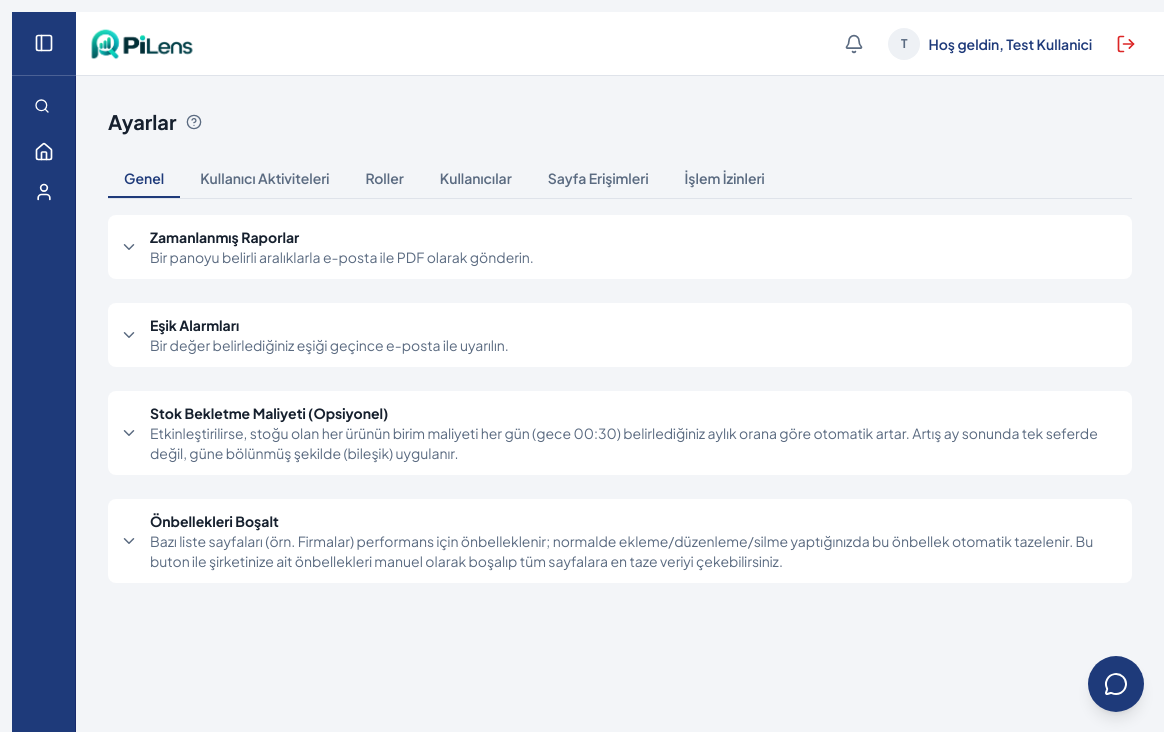
it: SettingsPage › detaylari genislet denince stok kaydinin meta bilgisini (urun adi) gosterir
Click the tab "Kullanıcı Aktiviteleri" at (265, 179), box [184,160,345,198]
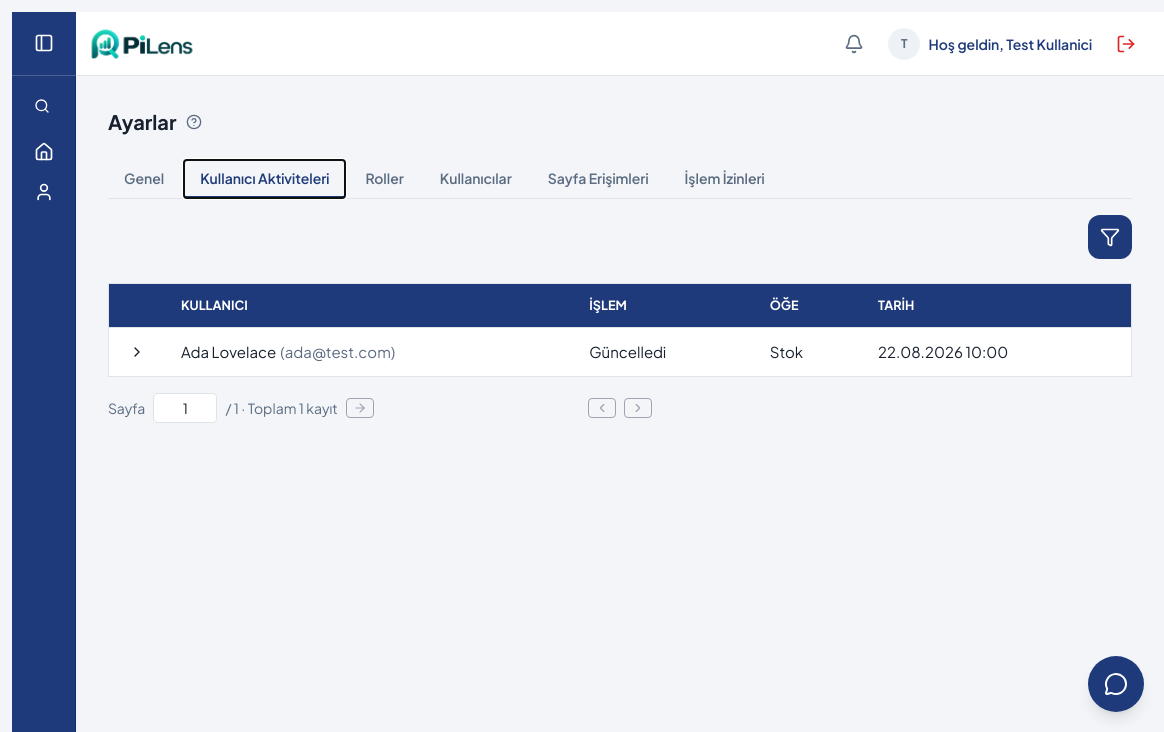
Expected: the text "Stok" is shown, [754,328,862,376]
Expected: the text "Sunucu" is not shown
Click the button named "Detayları göster" at (137, 352), box [125,340,149,364]
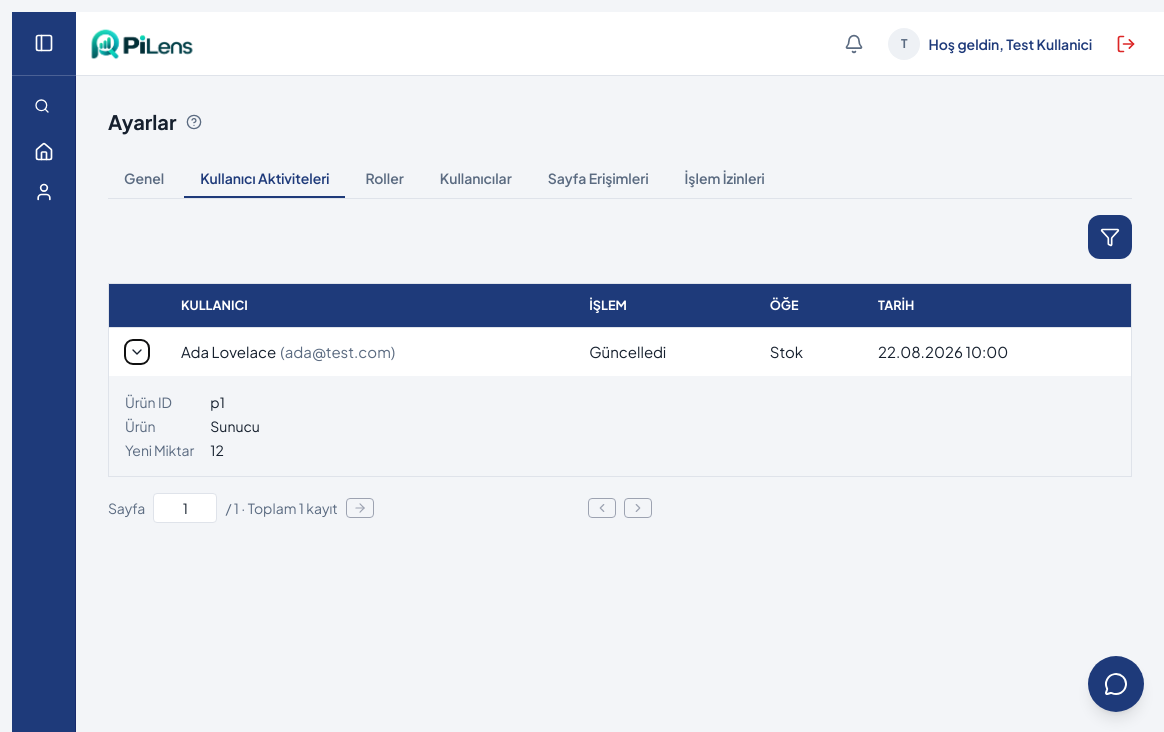
Expected: the text "Sunucu" is shown, [210,417,260,435]
Expected: the text "12" is shown, [210,441,224,459]
